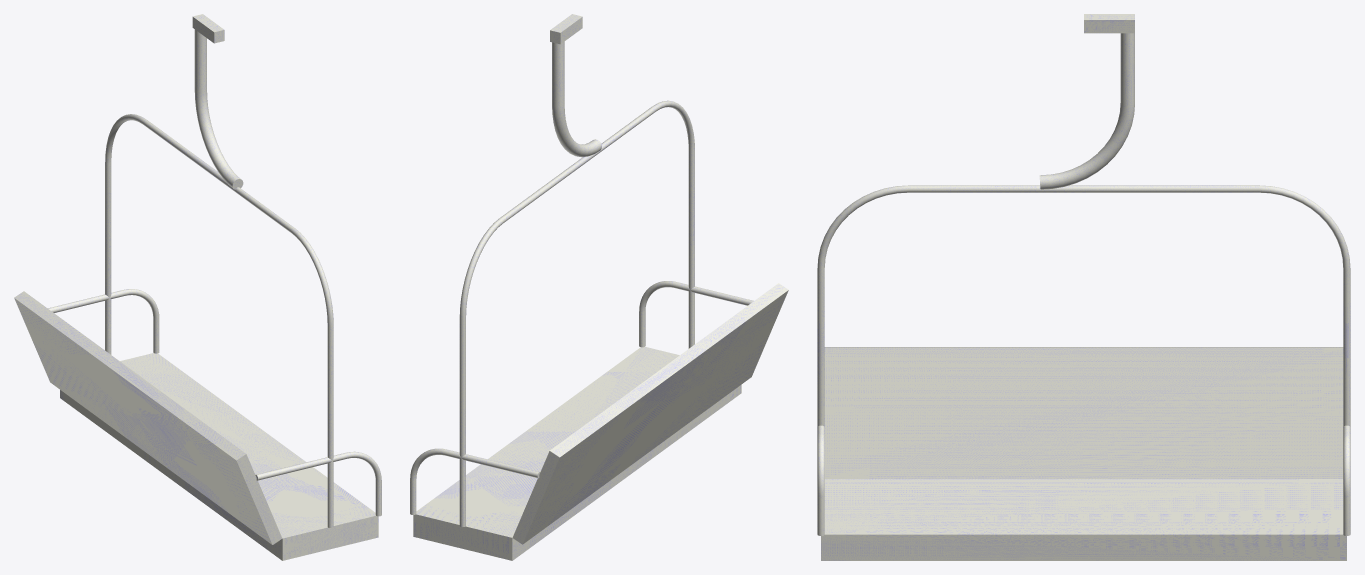
Rendered from ChairLift.fbx.
3 renders of one model, left to right at view 1: azimuth 30°, elevation 25°; view 2: azimuth 150°, elevation 25°; view 3: azimuth 270°, elevation 25°, orthographic. The views are drawn at different scales.
Visible parts, largest first — view 1: group_2, group_4, group_5, group_1, group_7, group_6, group_8; view 2: group_2, group_4, group_5, group_1, group_6, group_7, group_8; view 3: group_2, group_4, group_5, group_1, group_8, group_6, group_7.
Part boxes in pixels (bbox=[...]): group_2: bbox=[14, 291, 282, 544]; group_4: bbox=[60, 353, 378, 560]; group_5: bbox=[105, 114, 333, 527]; group_1: bbox=[194, 29, 243, 189]; group_7: bbox=[255, 451, 381, 516]; group_6: bbox=[48, 289, 159, 353]; group_8: bbox=[192, 14, 224, 43]; group_2: bbox=[512, 283, 788, 544]; group_4: bbox=[413, 347, 741, 560]; group_5: bbox=[459, 100, 694, 526]; group_1: bbox=[552, 41, 601, 157]; group_6: bbox=[410, 448, 540, 514]; group_7: bbox=[639, 281, 753, 347]; group_8: bbox=[550, 14, 582, 44]; group_2: bbox=[824, 347, 1343, 478]; group_4: bbox=[821, 479, 1346, 560]; group_5: bbox=[817, 185, 1350, 426]; group_1: bbox=[1039, 33, 1134, 189]; group_8: bbox=[1084, 14, 1134, 33]; group_6: bbox=[1343, 425, 1350, 535]; group_7: bbox=[817, 425, 824, 535].
Size of the model in its own units: 68.83 by 198 by 185.
